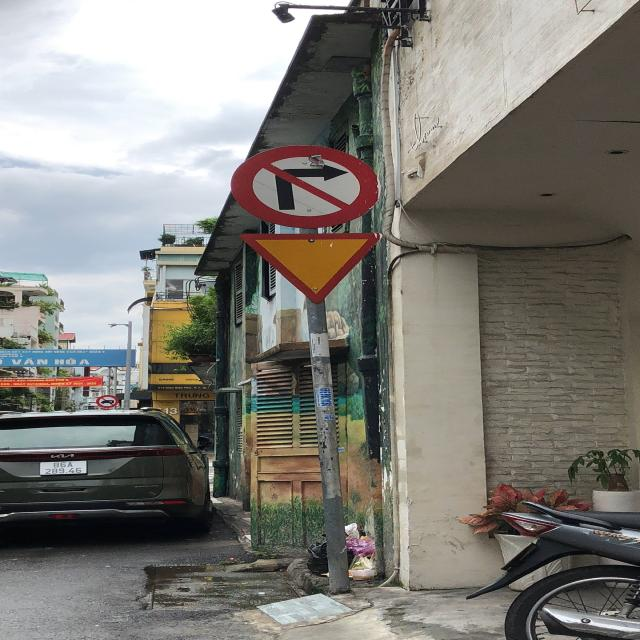Bien bao cam re phai: (224, 141, 389, 225)
Bien bao giao nhau voi duong uu tien: (235, 230, 386, 298)
